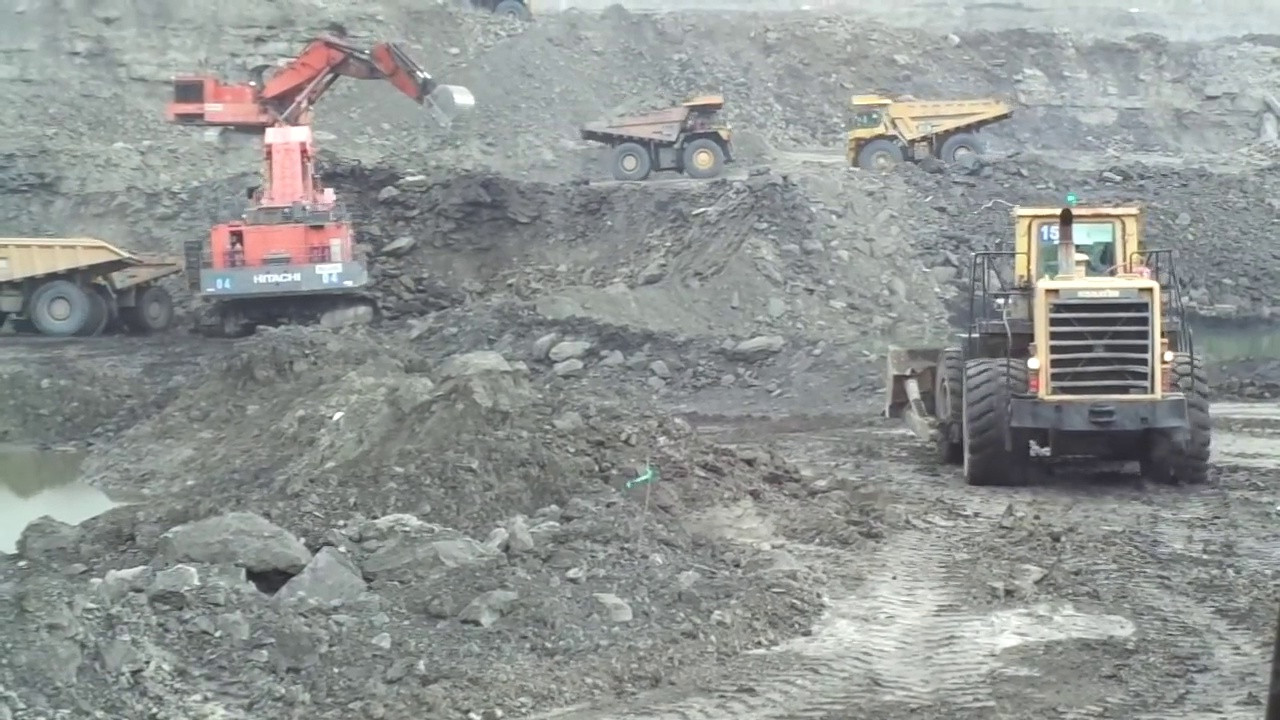dumper: (1, 235, 184, 339), (849, 90, 1012, 175), (580, 91, 733, 178)
excavator: (170, 28, 473, 327)
wheel loader: (889, 202, 1212, 491)
